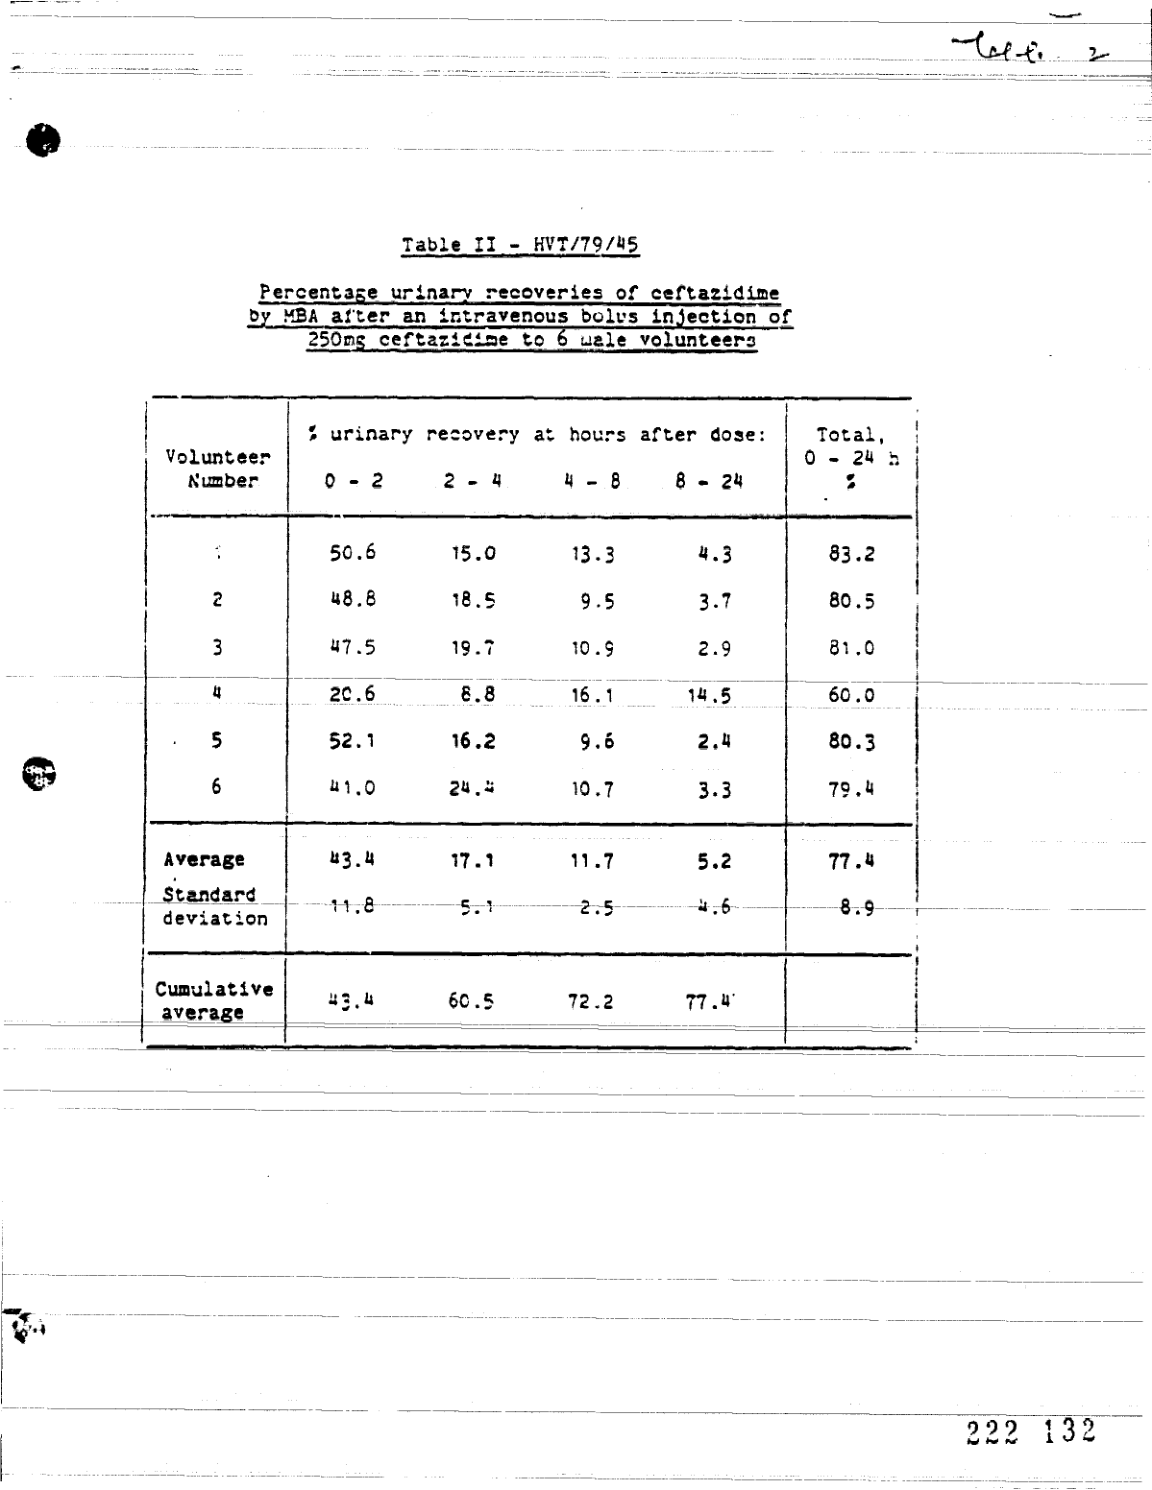partial_lined_merged_cells: (138, 394, 921, 1053)
